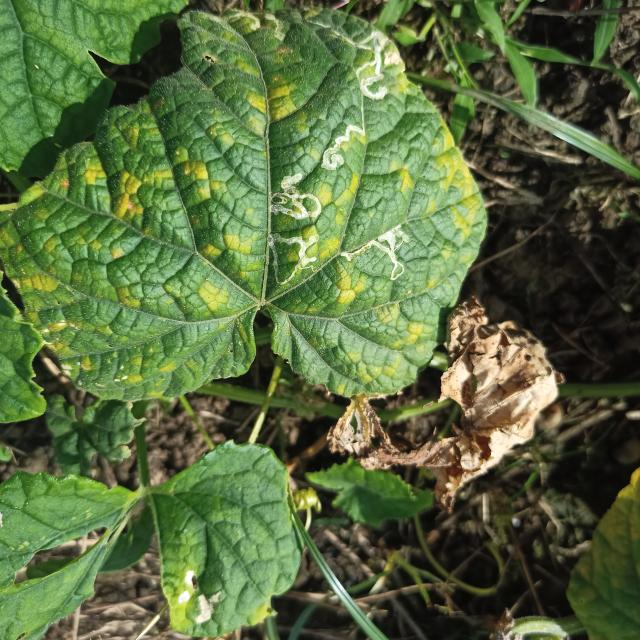disease_cucumber: (16, 25, 480, 394)
